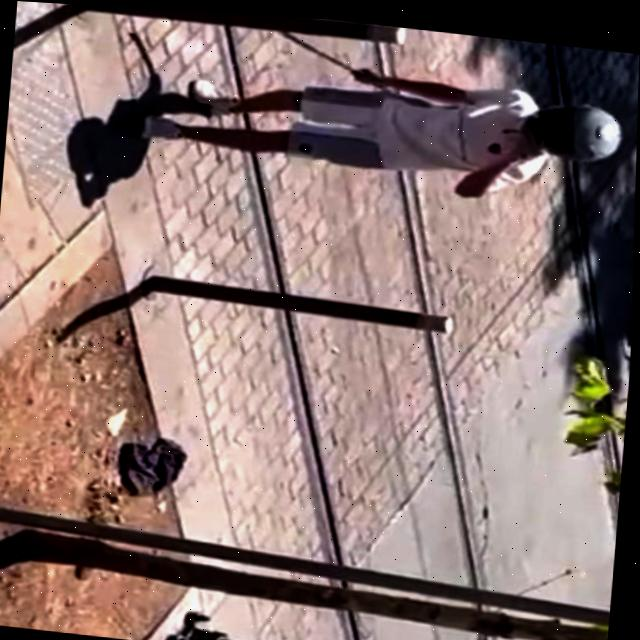long knife: (237, 15, 404, 92)
